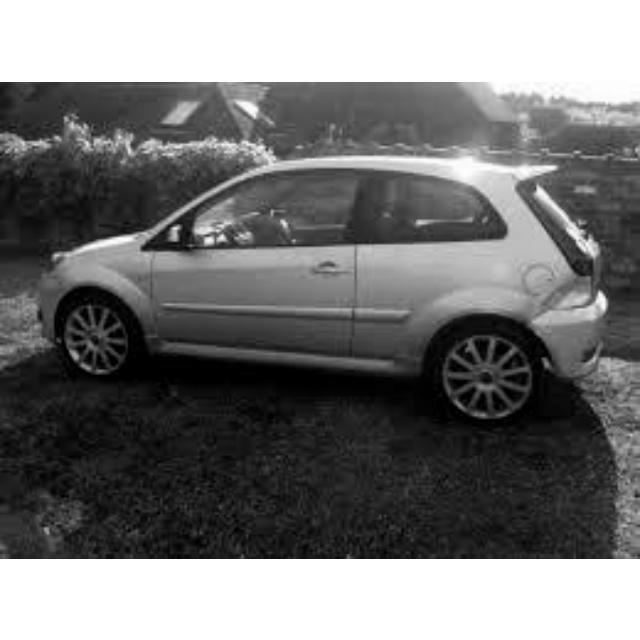quaterpanel-dent: (527, 246, 595, 346)
